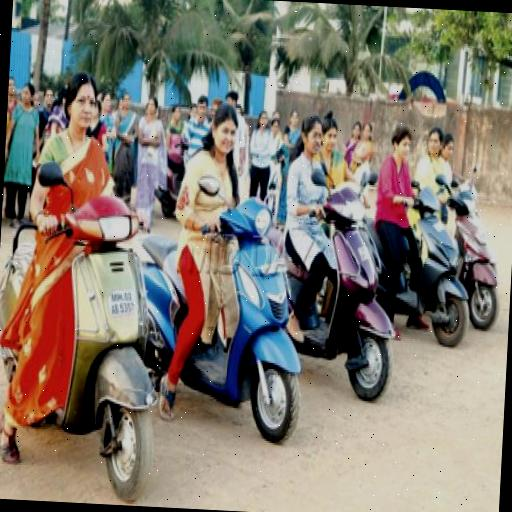no helmet: (13, 49, 169, 489), (155, 81, 318, 458), (274, 108, 403, 408), (360, 103, 474, 350)
